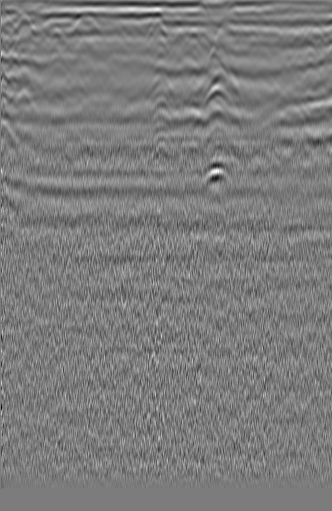가스: (197, 155, 234, 190)
상수: (5, 14, 42, 50)
오수: (288, 37, 323, 70)
우수: (142, 48, 175, 80)
